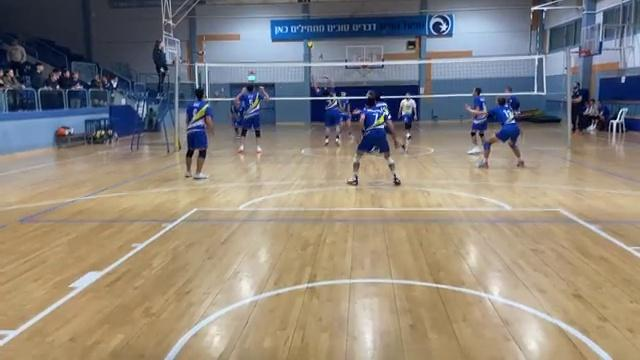ball: (304, 40, 316, 51)
